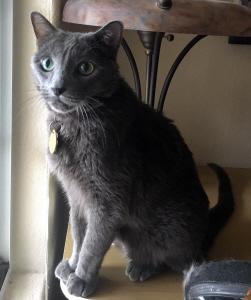rblue: (21, 1, 142, 127)
